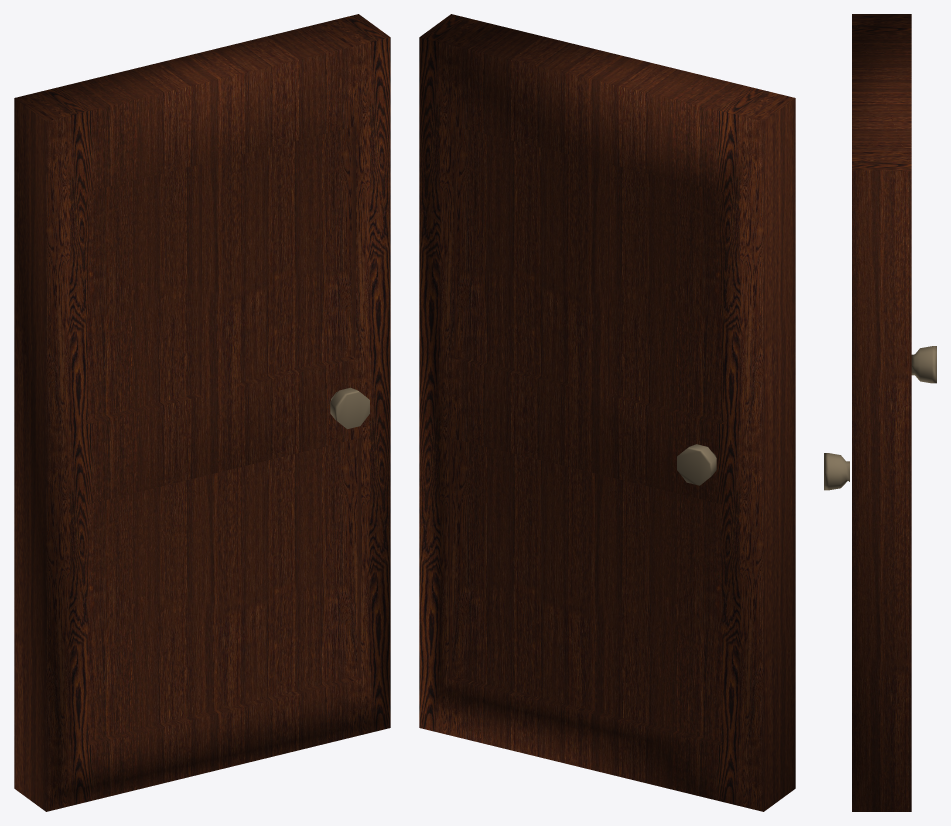
Rendered from wooden_door.glb.
3 views of the same model, side by side, from view 1: azimuth 30°, elevation 25°; view 2: azimuth 150°, elevation 25°; view 3: azimuth 270°, elevation 25° (orthographic). The views are drawn at different scales.
Parts seen in each view (by area): view 1: Door1; view 2: Door1; view 3: Door1.
Part boxes in pixels (x1,y1,x2,y2): Door1: [14, 14, 390, 811]; Door1: [419, 14, 795, 811]; Door1: [824, 14, 936, 811].
Size of the model in its own units: 1.15 by 2.2 by 0.3501.
Materials: 2 (1 with a texture image).
